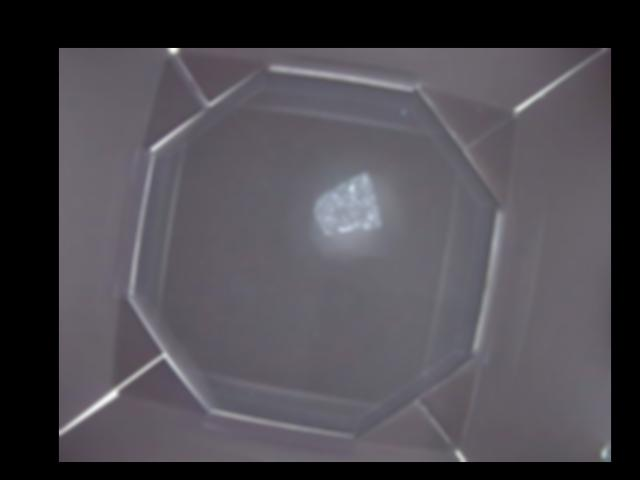China: (314, 171, 379, 234)
